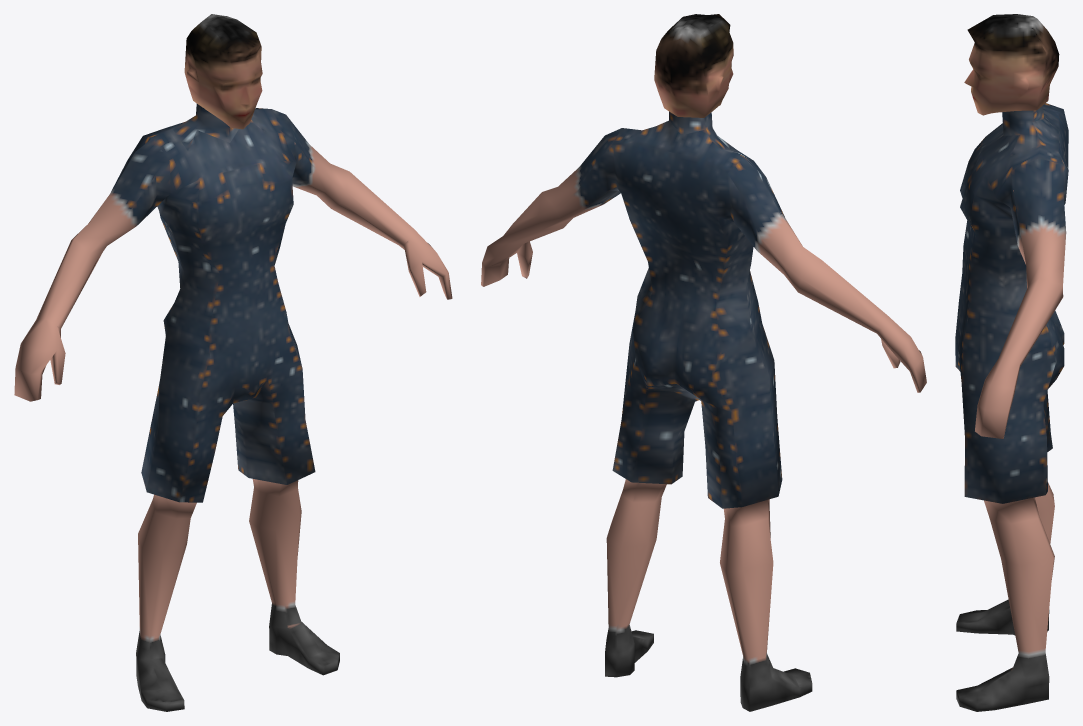
Rendered from male1.fbx.
The picture shows the model from 3 angles, left to right: view 1: azimuth 30°, elevation 25°; view 2: azimuth 150°, elevation 25°; view 3: azimuth 270°, elevation 25°; orthographic projection. The views are drawn at different scales.
Visible parts, largest first — view 1: male_body_shorts1 (×2); view 2: male_body_shorts1 (×2); view 3: male_body_shorts1 (×2).
Boxes of the visible parts, left/top/right/bottom form: male_body_shorts1 (×2): left=14, top=14, right=452, bottom=711; male_body_shorts1 (×2): left=481, top=14, right=926, bottom=711; male_body_shorts1 (×2): left=955, top=14, right=1068, bottom=711.
Size of the model in its own units: 127 by 183 by 29.03.
